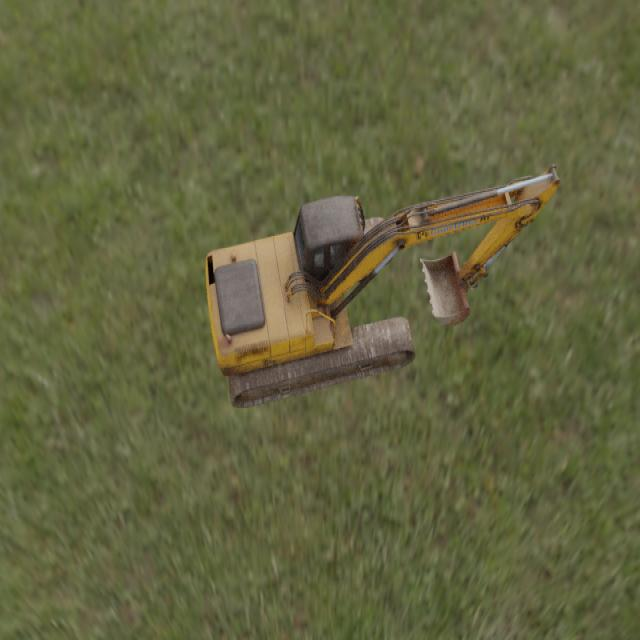excavator: (204, 163, 560, 408)
